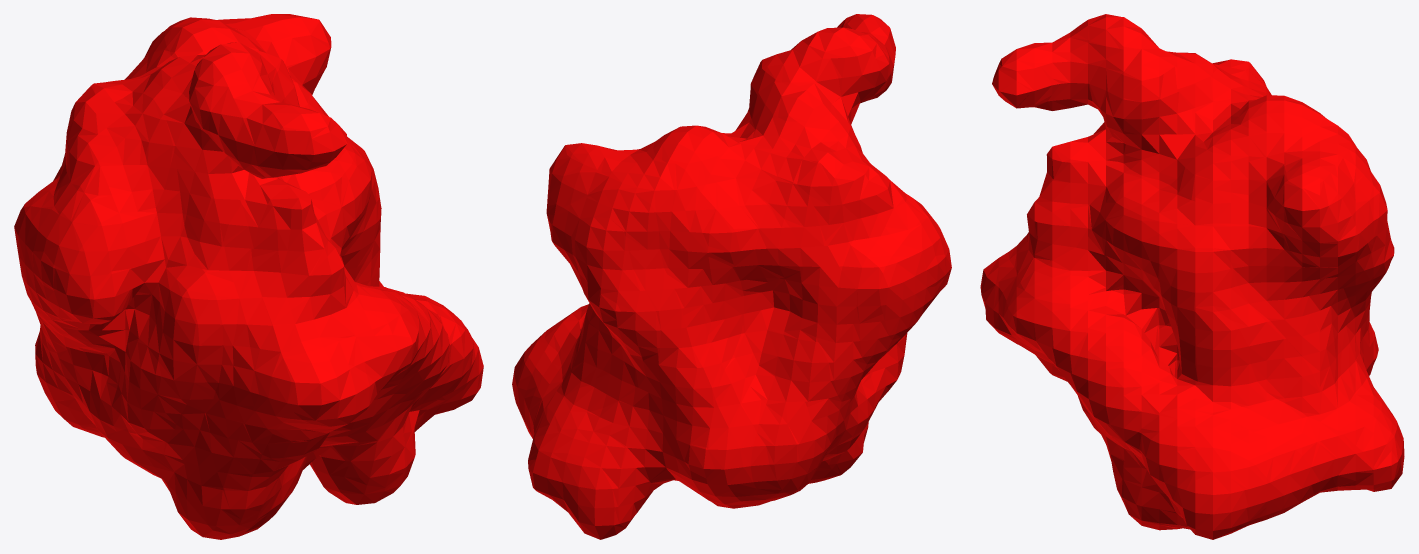
File: wecA_coarse.dae
3 renders of one model, left to right at view 1: azimuth 30°, elevation 25°; view 2: azimuth 150°, elevation 25°; view 3: azimuth 270°, elevation 25°, orthographic. The views are drawn at different scales.
Visible parts, largest first — view 1: wecA; view 2: wecA; view 3: wecA.
Part boxes in pixels (x1,y1,x2,y2): wecA: (14, 14, 483, 539); wecA: (512, 14, 951, 539); wecA: (980, 14, 1404, 539).
Size of the model in its own units: 62.35 by 66.83 by 58.09.
